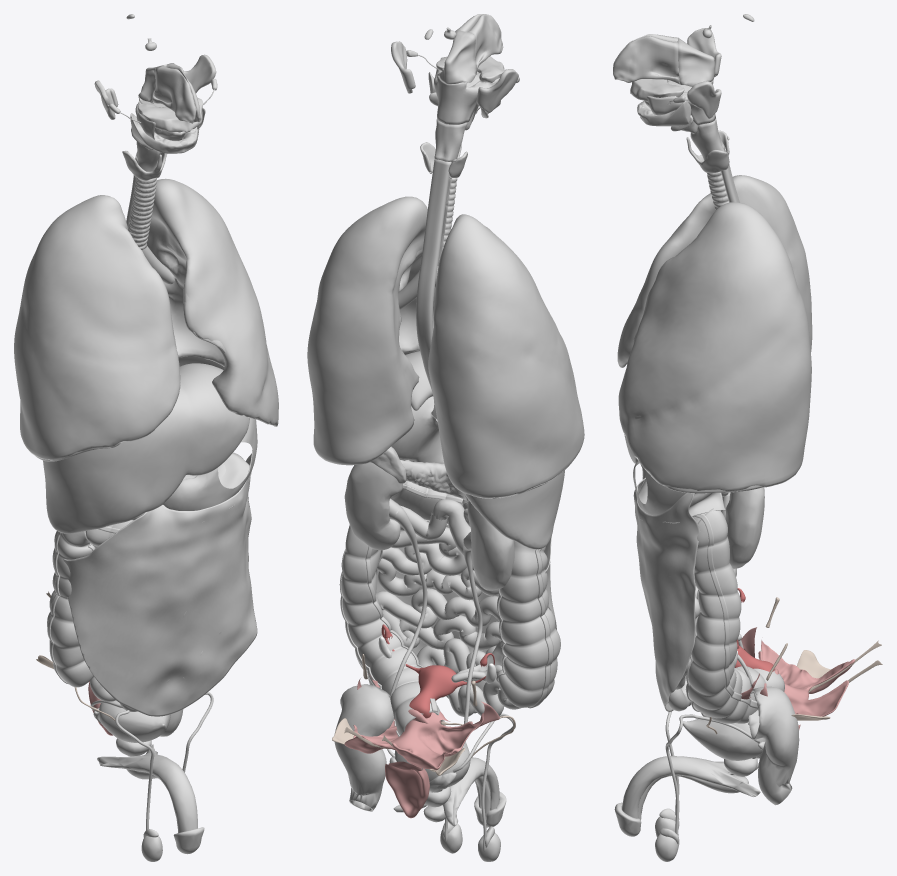
The model's file is VisceralSystem100.glb.
The picture shows the model from 3 angles, left to right: view 1: azimuth 30°, elevation 25°; view 2: azimuth 150°, elevation 25°; view 3: azimuth 270°, elevation 25°; orthographic projection. The views are drawn at different scales.
Parts seen in each view (by area): view 1: Pleura, Greater omentum, Liver, Ascending colon, Corpus cavernosum of penis, Stomach, Gingiva, Mucosa of nasal cavity, Urinary bladder, Trachea, Mesocolon, Mesocolic taenia (+5 smaller); view 2: Pleura, Jejunum, Ascending colon, Descending colon, Liver, Sigmoid colon, VH_F_broad_ligament, Kidney.l, Oesophagus, Kidney.r, Stomach, VH_F_vagina (+23 smaller); view 3: Pleura, Greater omentum, Descending colon, Sigmoid colon, VH_F_broad_ligament, Corpus cavernosum of penis, Mucosa of nasal cavity, Kidney.l, Urinary bladder, Gingiva, Nasopharynx, Mesocolic taenia (+11 smaller).
Part boxes in pixels (x1,y1,x2,y2): Pleura: (14, 178, 278, 460); Greater omentum: (63, 449, 257, 716); Liver: (43, 363, 249, 533); Ascending colon: (47, 531, 93, 687); Corpus cavernosum of penis: (97, 744, 197, 833); Stomach: (163, 418, 257, 510); Gingiva: (130, 97, 203, 153); Mucosa of nasal cavity: (152, 63, 201, 123); Urinary bladder: (98, 700, 170, 742); Trachea: (128, 177, 156, 249); Mesocolon: (218, 452, 251, 509); Mesocolic taenia: (47, 526, 120, 683); Pleura: (307, 196, 584, 498); Jejunum: (376, 505, 521, 716); Ascending colon: (498, 541, 560, 707); Descending colon: (341, 526, 445, 735); Liver: (405, 351, 564, 549); Sigmoid colon: (334, 684, 393, 811); VH_F_broad_ligament: (344, 674, 499, 770); Kidney.l: (344, 462, 402, 550); Oesophagus: (416, 159, 451, 419); Kidney.r: (467, 501, 514, 590); Stomach: (391, 396, 444, 463); VH_F_vagina: (385, 761, 429, 818); Pleura: (617, 175, 812, 491); Greater omentum: (633, 468, 700, 711); Descending colon: (688, 508, 784, 723); Sigmoid colon: (748, 686, 799, 805); VH_F_broad_ligament: (740, 627, 855, 716); Corpus cavernosum of penis: (622, 756, 760, 818); Mucosa of nasal cavity: (613, 34, 679, 83); Kidney.l: (725, 487, 764, 568); Urinary bladder: (683, 716, 765, 760); Gingiva: (630, 79, 691, 126); Nasopharynx: (678, 38, 714, 86); Mesocolic taenia: (693, 514, 757, 708).
Size of the model in its own units: 0.2634 by 0.8931 by 0.2607.
